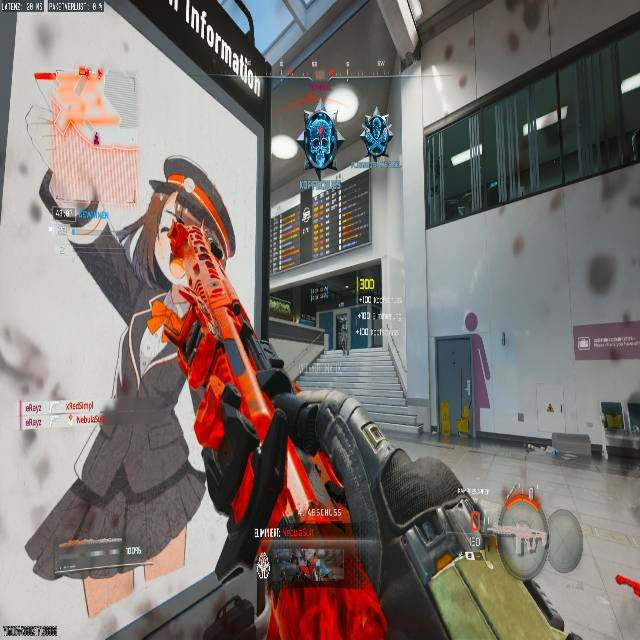player: (297, 107, 344, 174), (360, 113, 393, 161)
